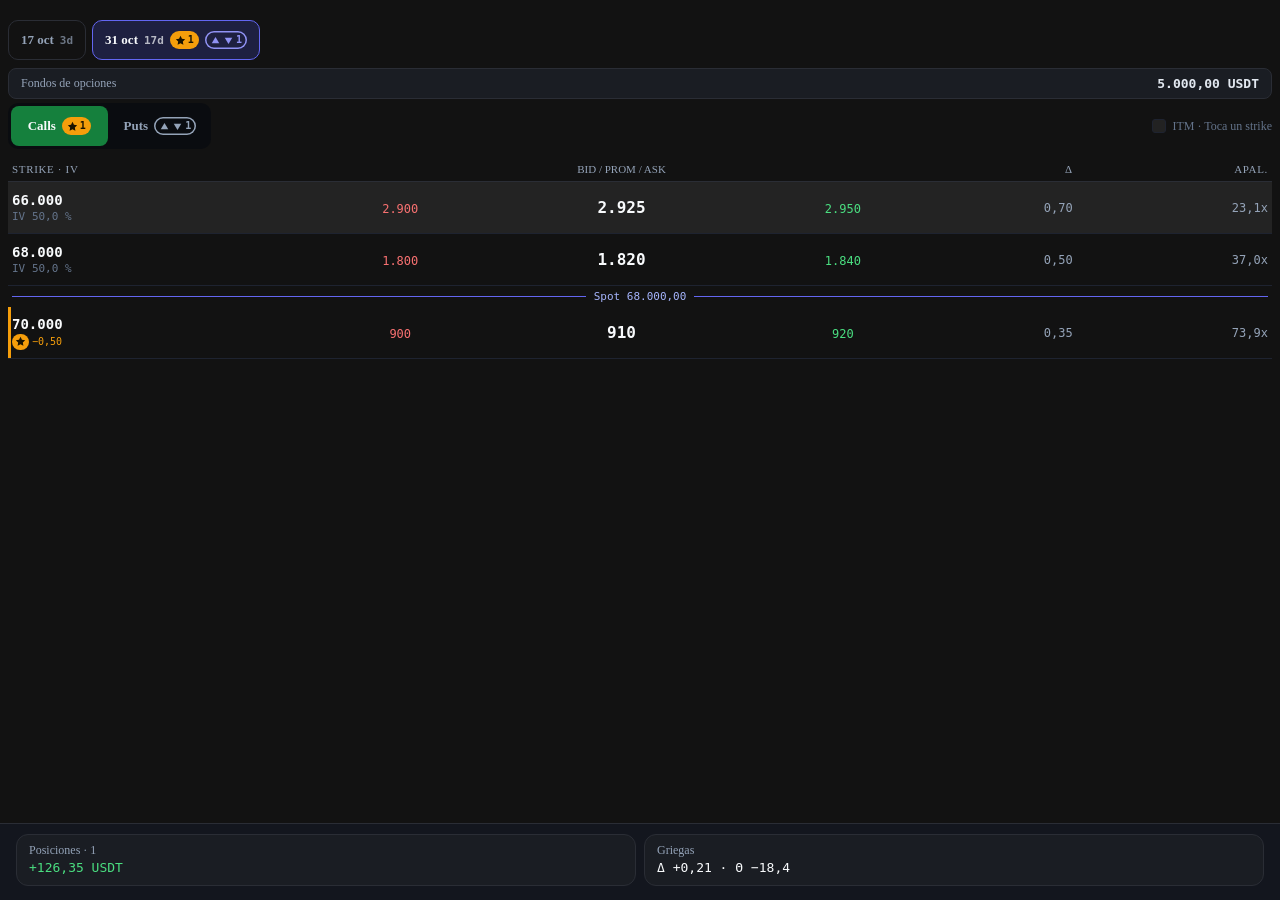
Test: ManualTradingTab · móvil › tocar un strike abre el ticket en hoja inferior y los steppers cambian la cantidad
The image size is (1280, 900).
Click the button named "Call 70.000" at (37, 324), box [8, 307, 1272, 359]
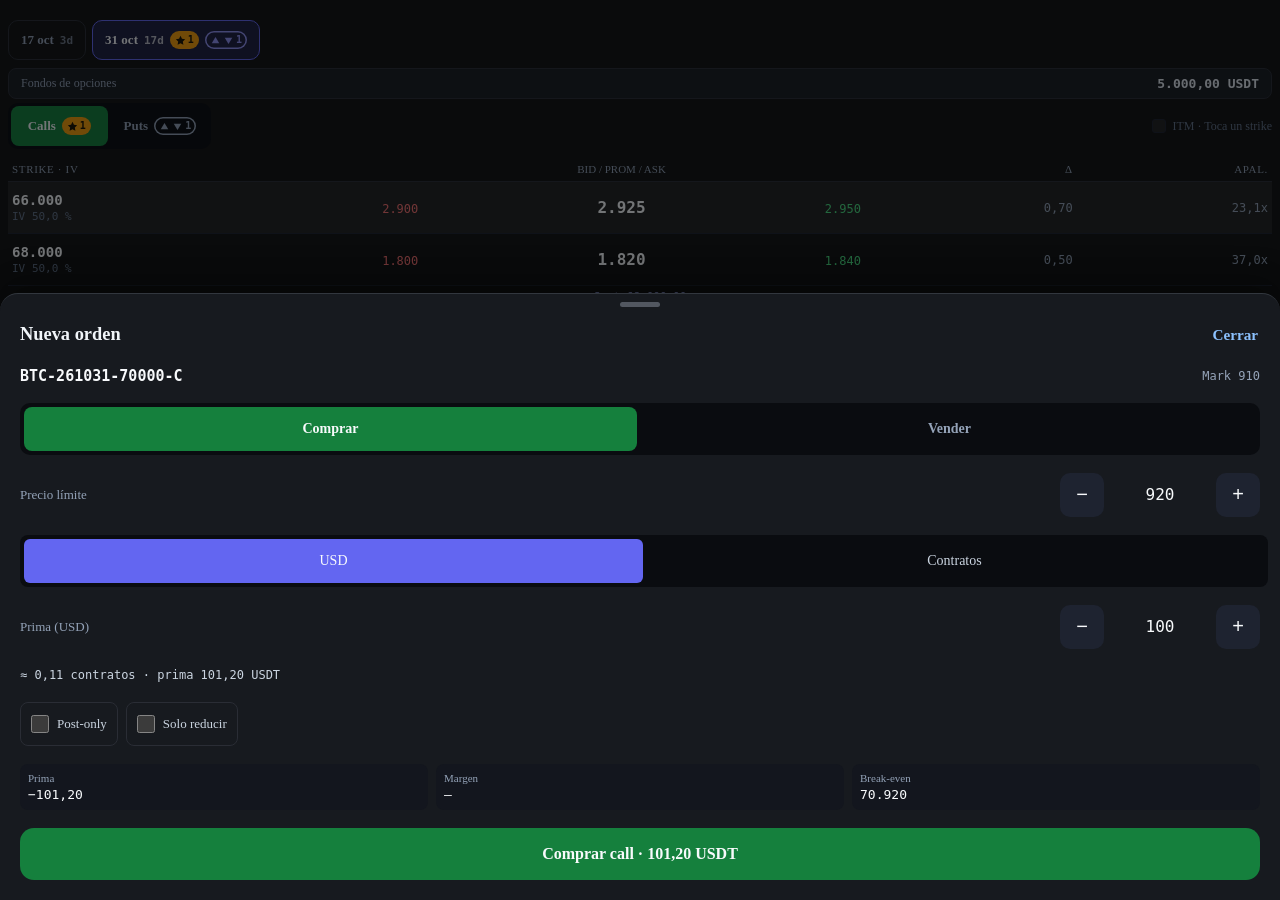
Check: the text "BTC-261031-70000-C" is shown, box [20, 367, 183, 385]
Check: the field labelled "Precio límite" holds "920", box [1112, 473, 1208, 517]
Click the button named "Más USD" at (1238, 627), box [1216, 605, 1260, 649]
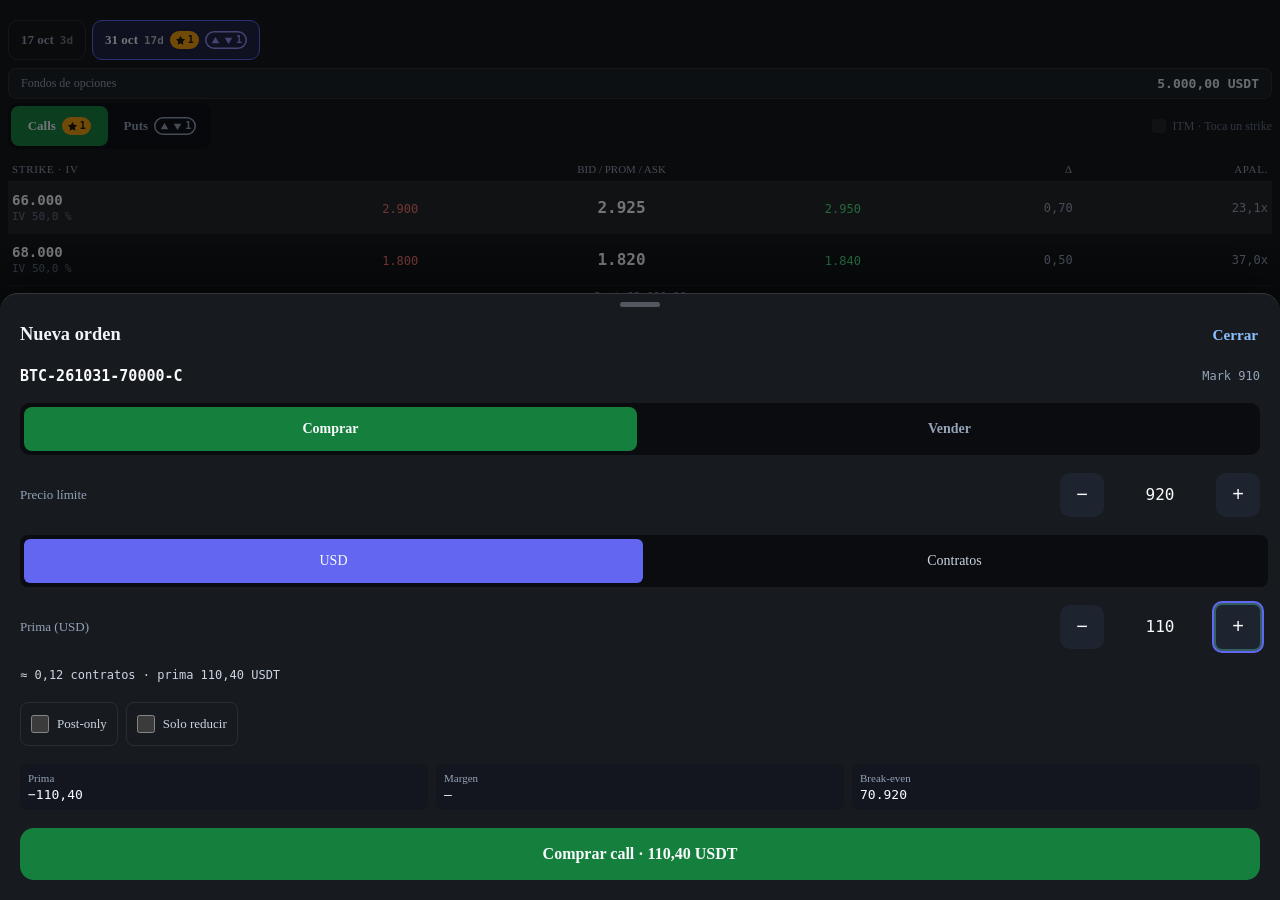
Check: the field labelled "Prima (USD)" holds "110", box [1112, 605, 1208, 649]
Click the button named "Subir precio" at (1238, 495), box [1216, 473, 1260, 517]
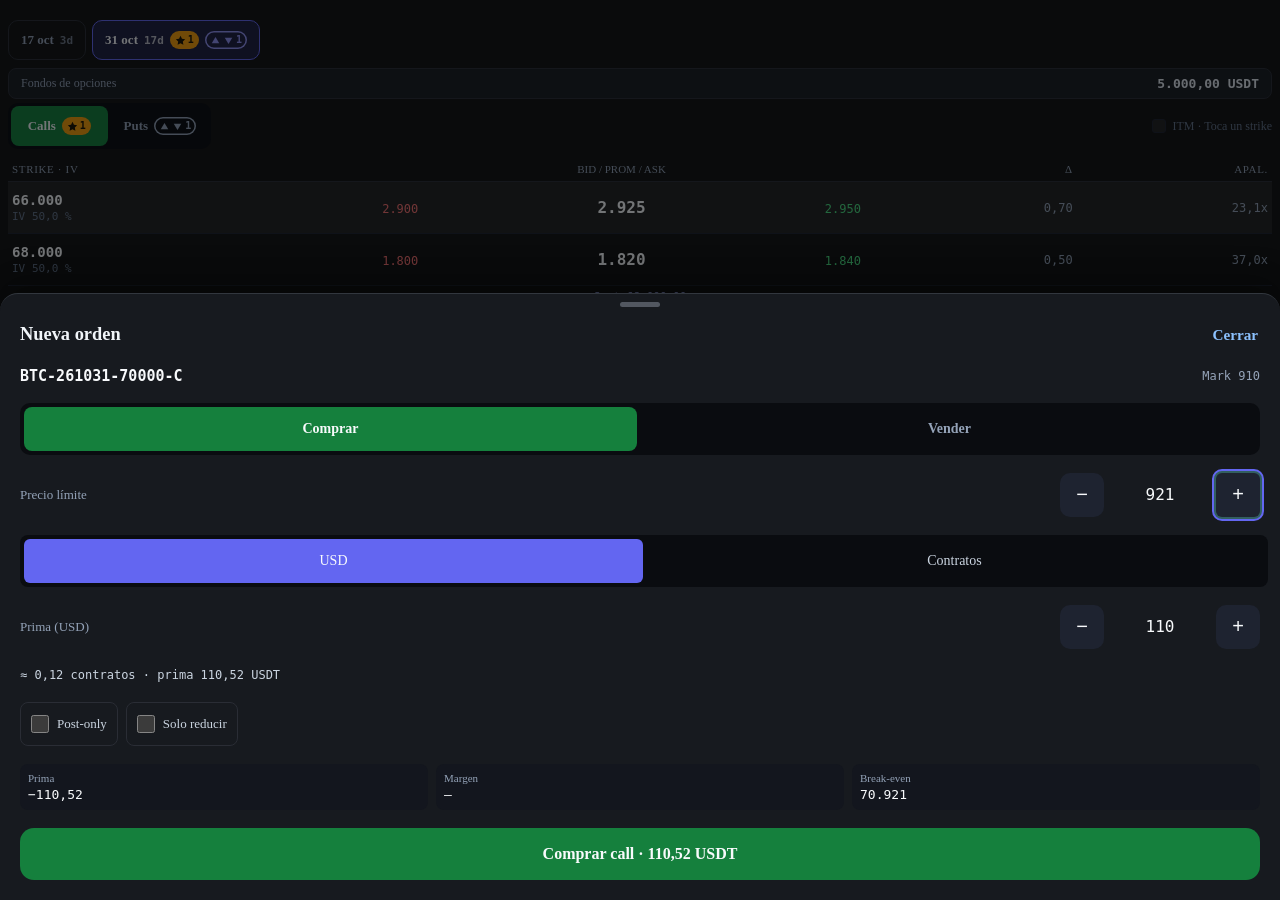
Check: the field labelled "Precio límite" holds "921", box [1112, 473, 1208, 517]
Click the button "Comprar call · 110,52 USDT" at (640, 854), box [20, 828, 1260, 880]
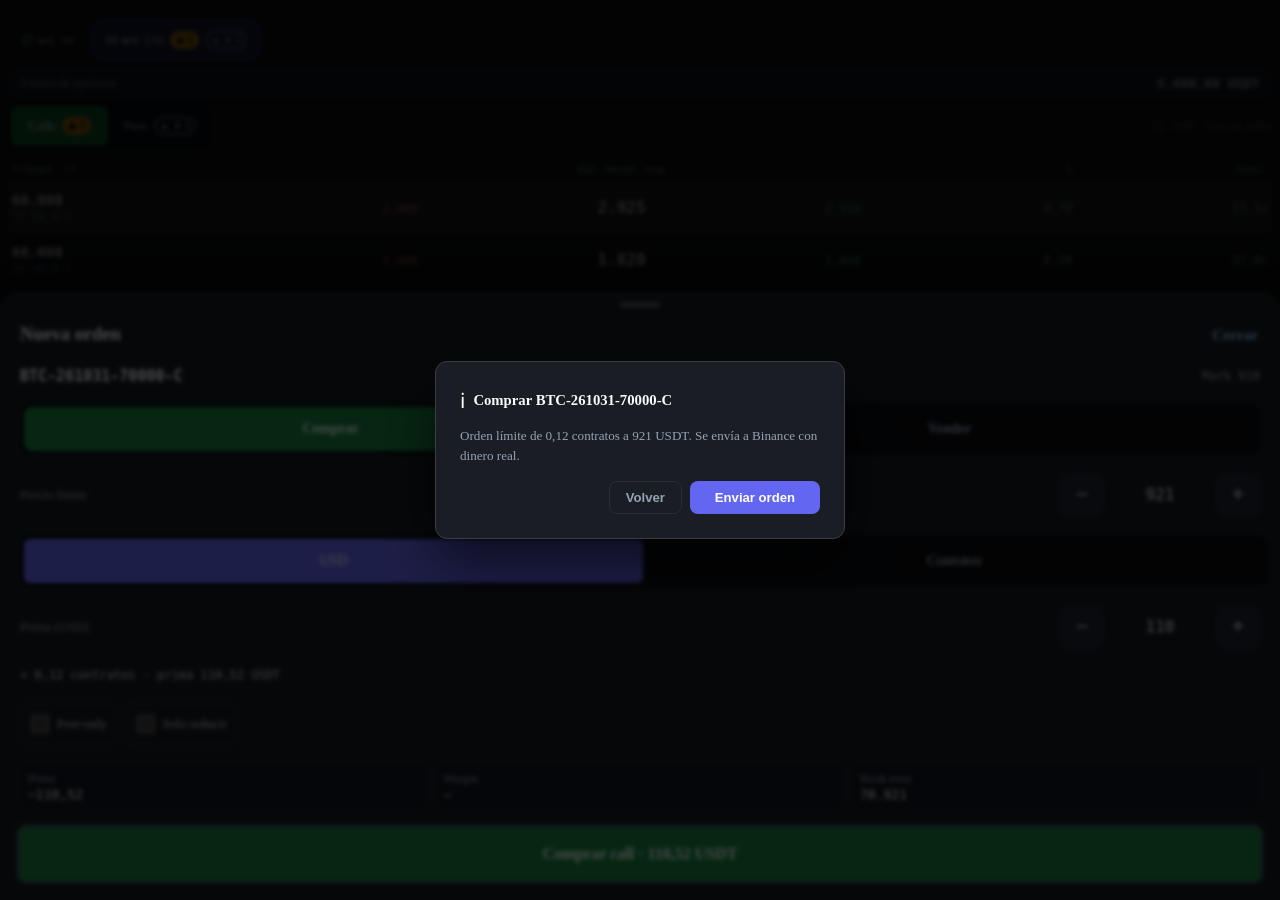
Click the button "Enviar orden" at (755, 497), box [690, 480, 820, 514]
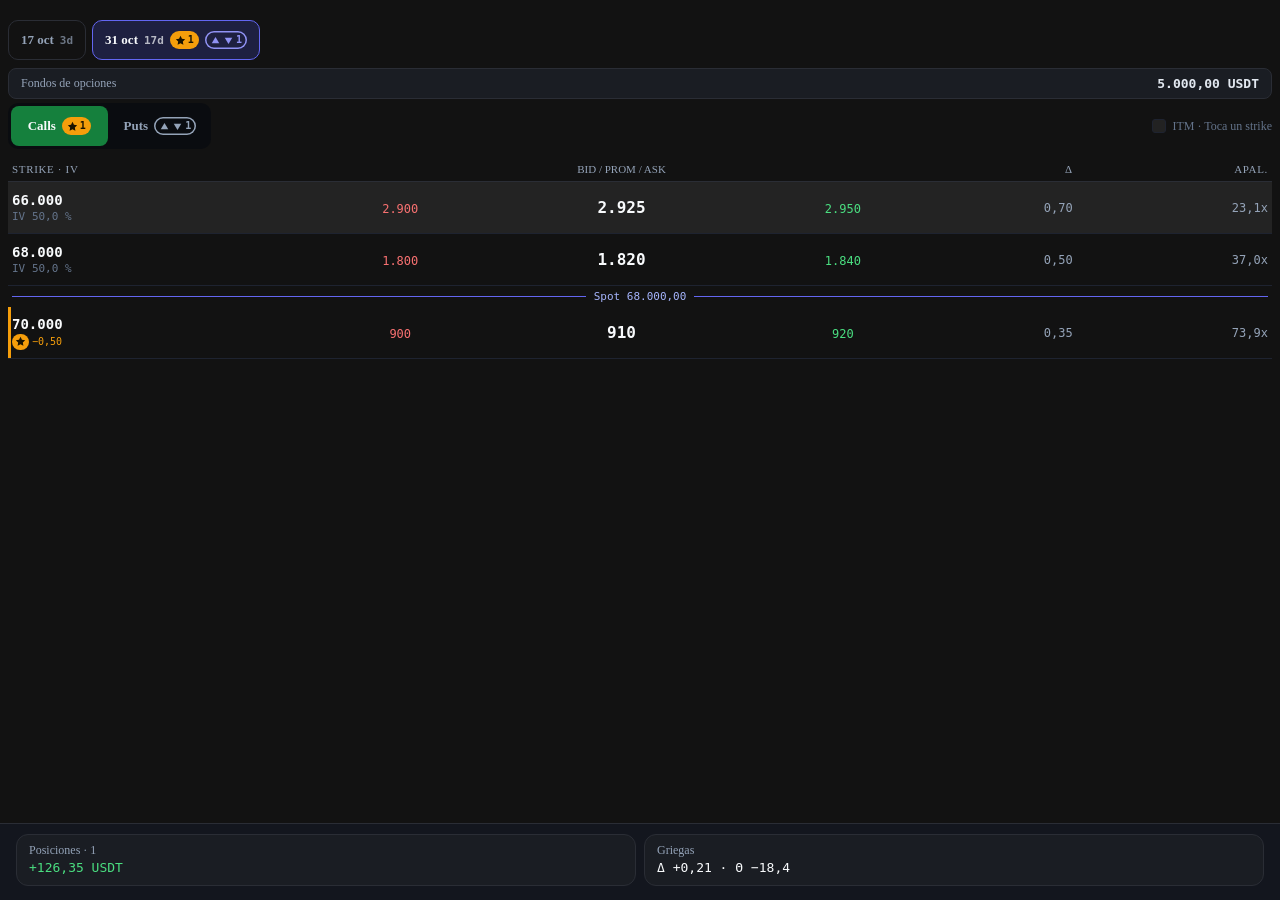
Check: the heading "Nueva orden" is gone
